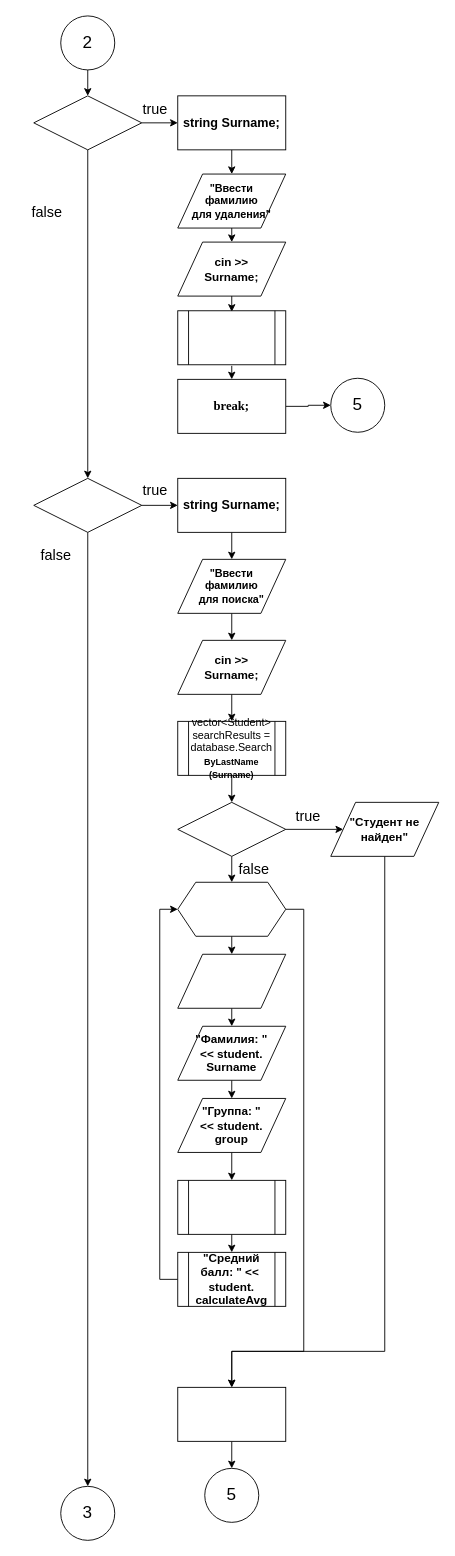
This 455x1556 diagram has some shape labels left out. The centre of each missing label's shape, as x and y in pixels:
"Имя: " << student.Name: pixel 231 980
break: pixel 231 1413
case 2: pixel 87 122
case 3: pixel 87 504
const Student& student : searchResults: pixel 231 908
database. remove Student(Surname): pixel 231 337
seacrResults. empty(): pixel 231 828
student.print Grades(): pixel 231 1206
